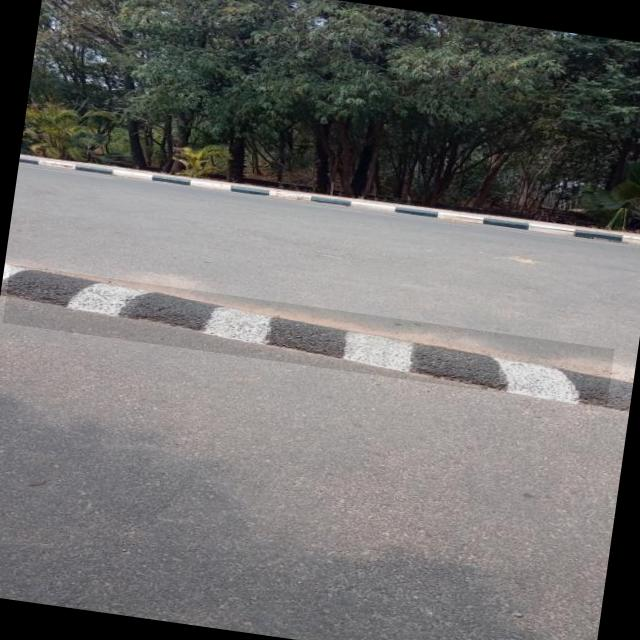bump: (2, 264, 614, 408)
